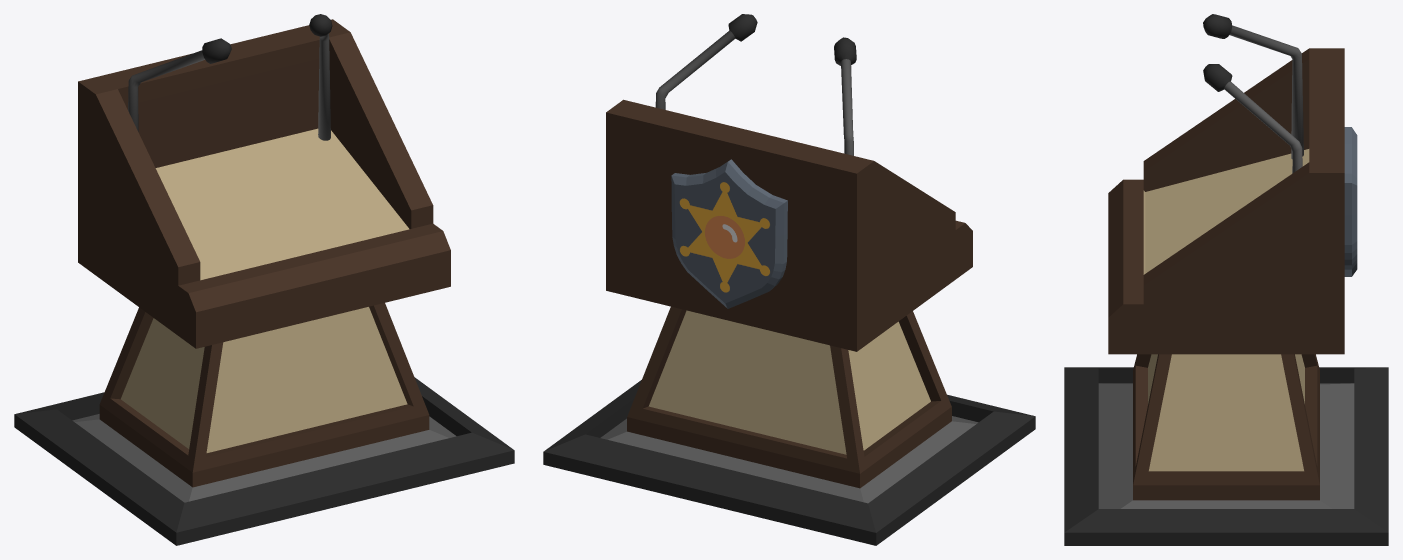
The model's file is Model_Podium.fbx.
3 views of the same model, side by side, from view 1: azimuth 30°, elevation 25°; view 2: azimuth 150°, elevation 25°; view 3: azimuth 270°, elevation 25° (orthographic).
Visible parts, largest first — view 1: Box001; view 2: Box001, Cylinder; view 3: Box001, Cylinder.
Part boxes in pixels (bbox=[...]): Box001: bbox=[14, 14, 514, 545]; Box001: bbox=[543, 14, 1035, 545]; Cylinder: bbox=[671, 159, 787, 308]; Box001: bbox=[1064, 14, 1388, 545]; Cylinder: bbox=[1344, 127, 1357, 276].
Bounding box in the file's own units: 119 × 143 × 99.1.
Materials: 5 (1 with a texture image).
